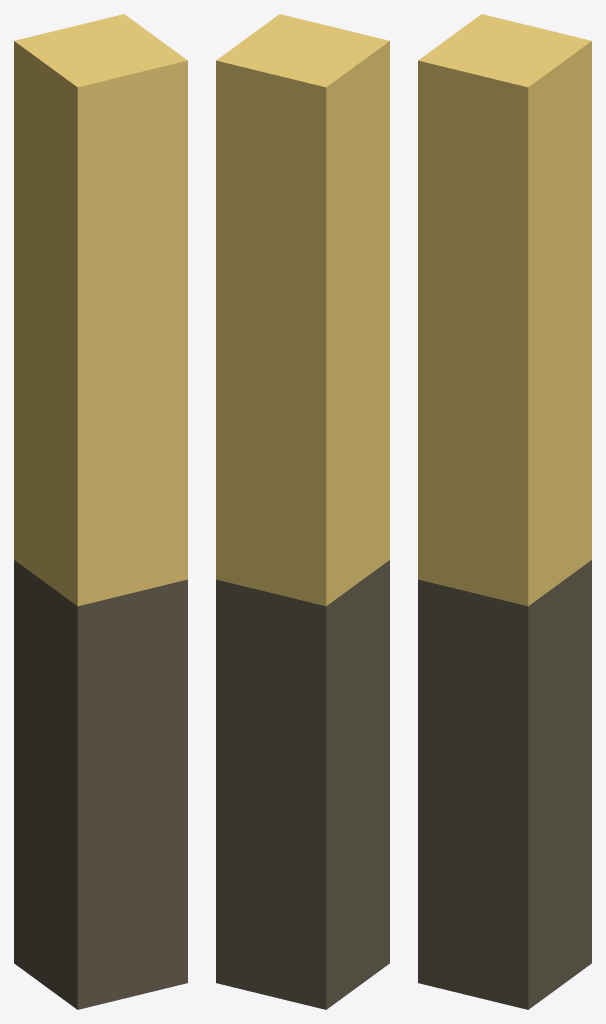
File: NF_Wall_B.fbx
3 renders of one model, left to right at view 1: azimuth 30°, elevation 25°; view 2: azimuth 150°, elevation 25°; view 3: azimuth 330°, elevation 25°, orthographic.
Parts seen in each view (by area): view 1: NF_Wall_B; view 2: NF_Wall_B; view 3: NF_Wall_B.
Part boxes in pixels (left/top/right/bottom): NF_Wall_B: left=14, top=14, right=187, bottom=1009; NF_Wall_B: left=216, top=14, right=389, bottom=1009; NF_Wall_B: left=418, top=14, right=591, bottom=1009.
Size of the model in its own units: 0.5 by 4 by 0.5.
Materials: 1 (1 with a texture image).
